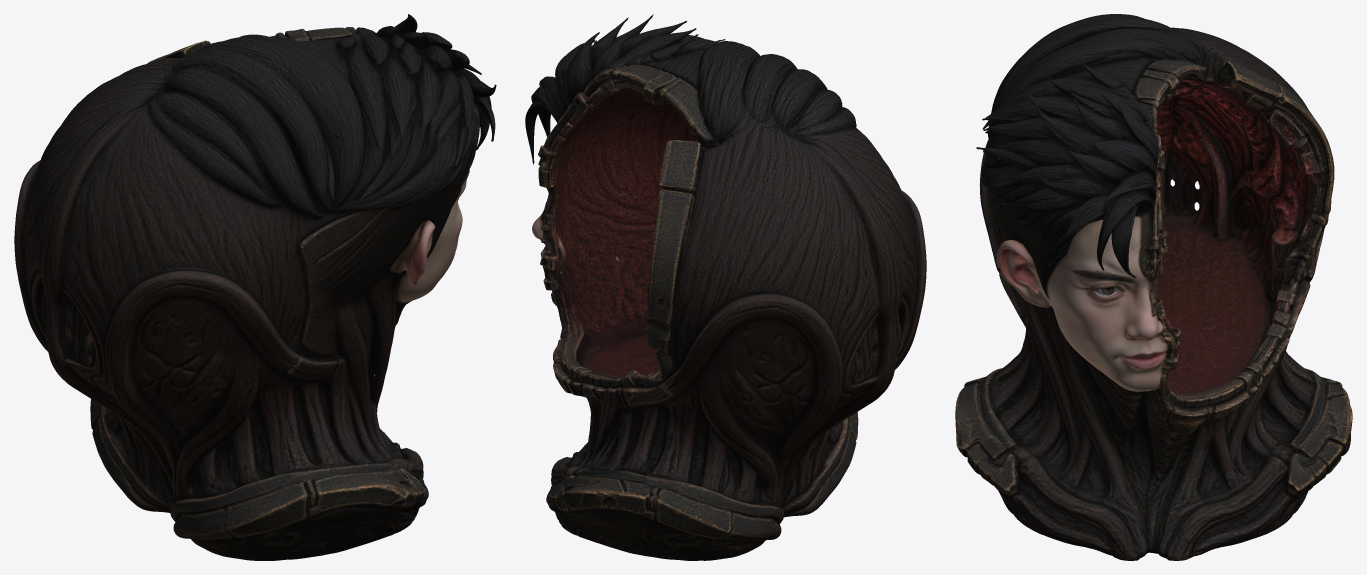
The model's file is alex-mechanical-open-head-optimized.glb.
The picture shows the model from 3 angles, left to right: view 1: azimuth 30°, elevation 25°; view 2: azimuth 150°, elevation 25°; view 3: azimuth 270°, elevation 25°; orthographic projection. The views are drawn at different scales.
Visible parts, largest first — view 1: tripo_node_2ca0714f-44af-4e11-883b-d6c58fd93740; view 2: tripo_node_2ca0714f-44af-4e11-883b-d6c58fd93740; view 3: tripo_node_2ca0714f-44af-4e11-883b-d6c58fd93740.
Boxes of the visible parts, <box> form: tripo_node_2ca0714f-44af-4e11-883b-d6c58fd93740: <box>14,14,496,560</box>; tripo_node_2ca0714f-44af-4e11-883b-d6c58fd93740: <box>525,14,926,560</box>; tripo_node_2ca0714f-44af-4e11-883b-d6c58fd93740: <box>955,14,1352,560</box>.
Size of the model in its own units: 0.9047 by 0.9788 by 0.7745.
1 material, 1 textured.
